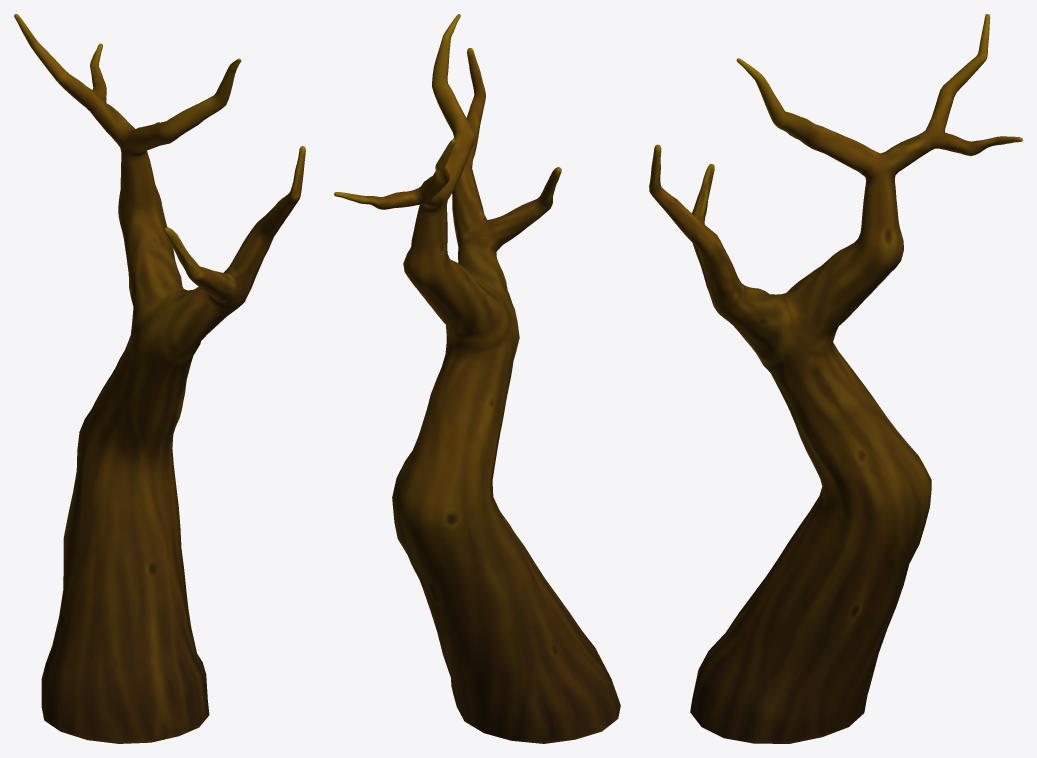
The model's file is SM_Tree_1_Trunk.fbx.
3 renders of one model, left to right at view 1: azimuth 30°, elevation 25°; view 2: azimuth 150°, elevation 25°; view 3: azimuth 270°, elevation 25°, orthographic. The views are drawn at different scales.
Visible parts, largest first — view 1: SM_Tree_1_Trunk_LOD0; view 2: SM_Tree_1_Trunk_LOD0; view 3: SM_Tree_1_Trunk_LOD0.
Boxes of the visible parts, box(x1,y1,x2,y2) form: SM_Tree_1_Trunk_LOD0: box(14, 14, 305, 743); SM_Tree_1_Trunk_LOD0: box(334, 14, 620, 743); SM_Tree_1_Trunk_LOD0: box(649, 14, 1022, 743).
Bounding box in the file's own units: 464 × 703 × 1452.
Materials: 1 (1 with a texture image).
